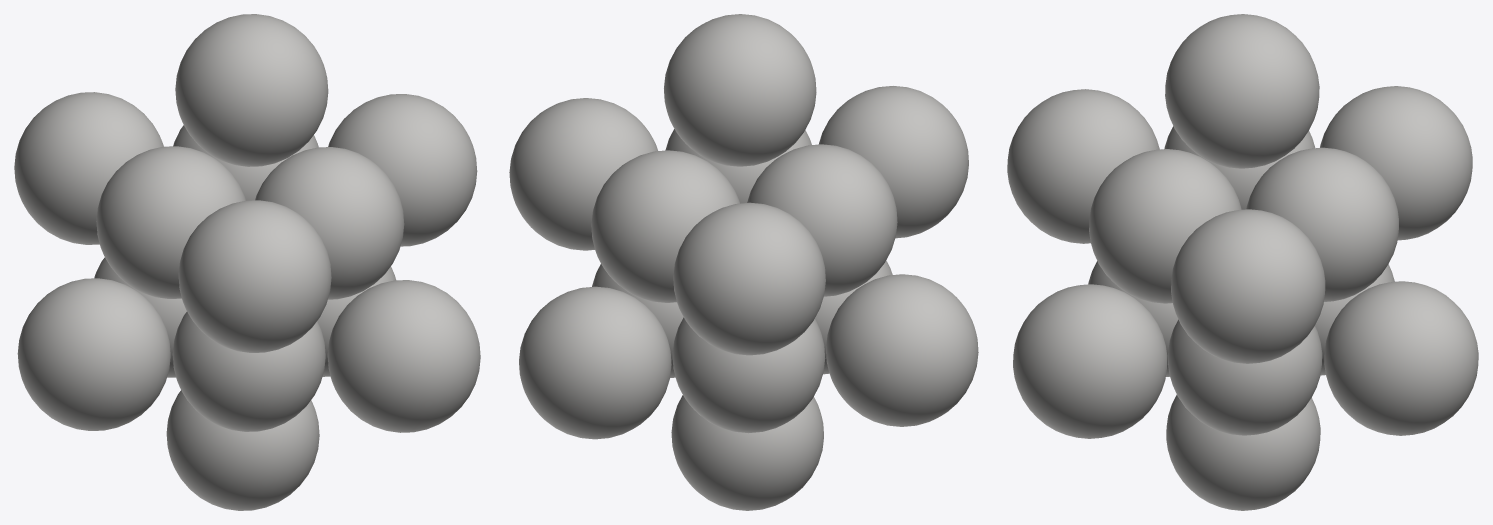
File: mianxin6_2.FBX
3 renders of one model, left to right at view 1: azimuth 30°, elevation 25°; view 2: azimuth 150°, elevation 25°; view 3: azimuth 270°, elevation 25°, orthographic.
Parts seen in each view (by area): view 1: 对象289; view 2: 对象289; view 3: 对象289.
Boxes of the visible parts, x1,y1,x2,y2 form: 对象289: [14, 14, 480, 510]; 对象289: [509, 14, 978, 510]; 对象289: [1007, 14, 1478, 510].
Size of the model in its own units: 134 by 139 by 122.
